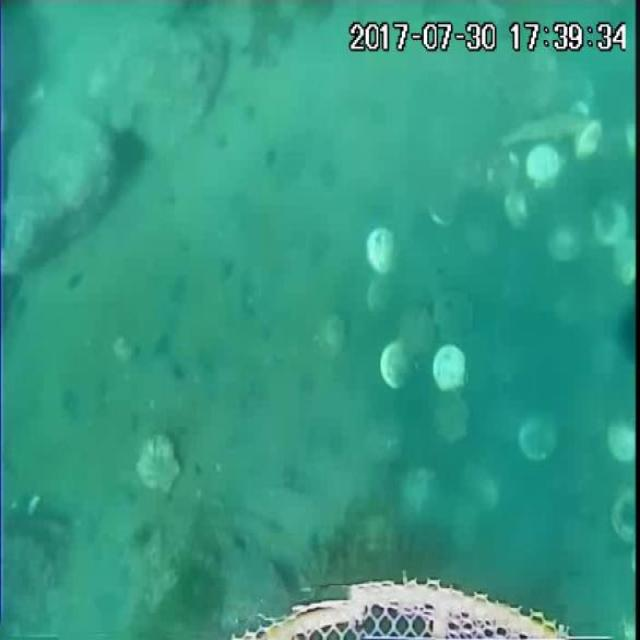echinus: (107, 122, 152, 178)
scallop: (132, 429, 182, 502), (402, 466, 452, 538), (431, 285, 483, 347), (430, 386, 475, 451), (393, 300, 440, 359), (517, 405, 559, 464), (500, 184, 542, 240), (544, 219, 591, 268), (592, 194, 633, 250), (432, 339, 472, 393), (314, 306, 352, 362), (380, 336, 417, 393), (364, 269, 402, 323), (606, 410, 640, 470), (364, 224, 402, 277), (611, 481, 640, 549), (523, 145, 568, 188), (612, 234, 640, 285), (576, 117, 605, 163)
